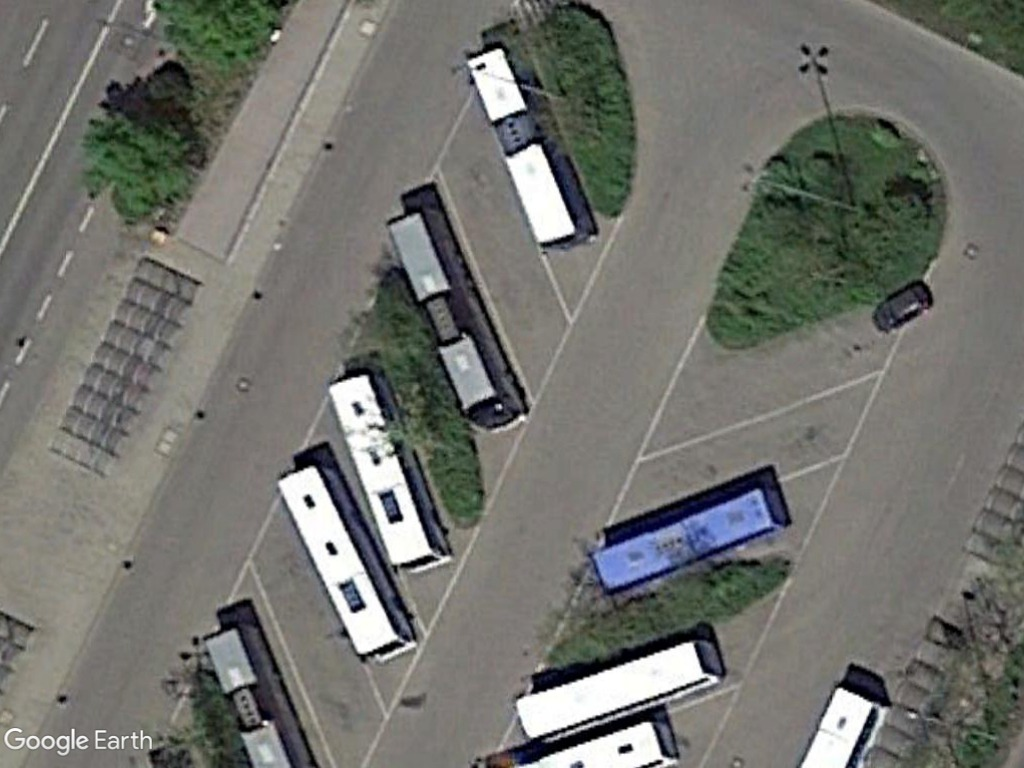bus: (380, 203, 528, 436), (277, 456, 420, 672), (461, 40, 594, 254), (322, 360, 453, 577), (512, 640, 730, 751), (587, 483, 794, 598)
